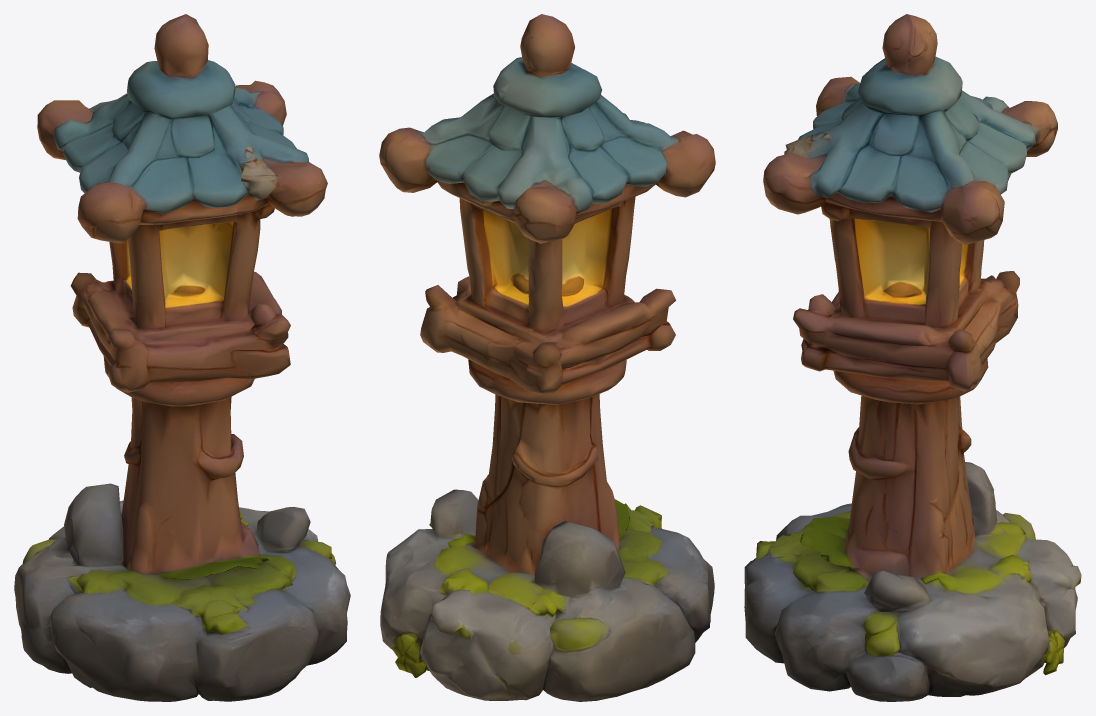
Rendered from garden-lantern.glb.
3 views of the same model, side by side, from view 1: azimuth 30°, elevation 25°; view 2: azimuth 150°, elevation 25°; view 3: azimuth 270°, elevation 25° (orthographic).
Parts seen in each view (by area): view 1: tripo_node_df1508af-56a8-4e94-a4ad-49a0e27e2589; view 2: tripo_node_df1508af-56a8-4e94-a4ad-49a0e27e2589; view 3: tripo_node_df1508af-56a8-4e94-a4ad-49a0e27e2589.
Boxes of the visible parts, x1=… form: tripo_node_df1508af-56a8-4e94-a4ad-49a0e27e2589: x1=14, y1=14, x2=350, y2=701; tripo_node_df1508af-56a8-4e94-a4ad-49a0e27e2589: x1=379, y1=14, x2=715, y2=701; tripo_node_df1508af-56a8-4e94-a4ad-49a0e27e2589: x1=744, y1=14, x2=1081, y2=701.
Size of the model in its own units: 1.18 by 2.4 by 1.17.
1 material, 1 textured.
